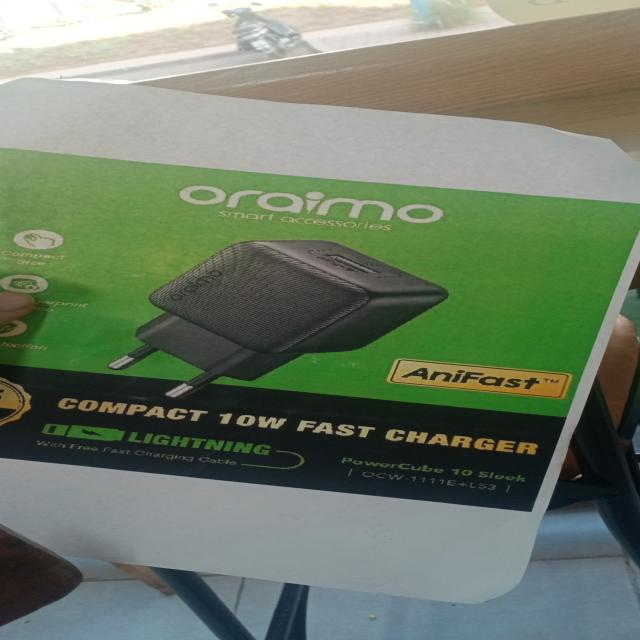PowerCube 10 Sleek OCW-1111ExL53: (335, 450, 538, 496)
